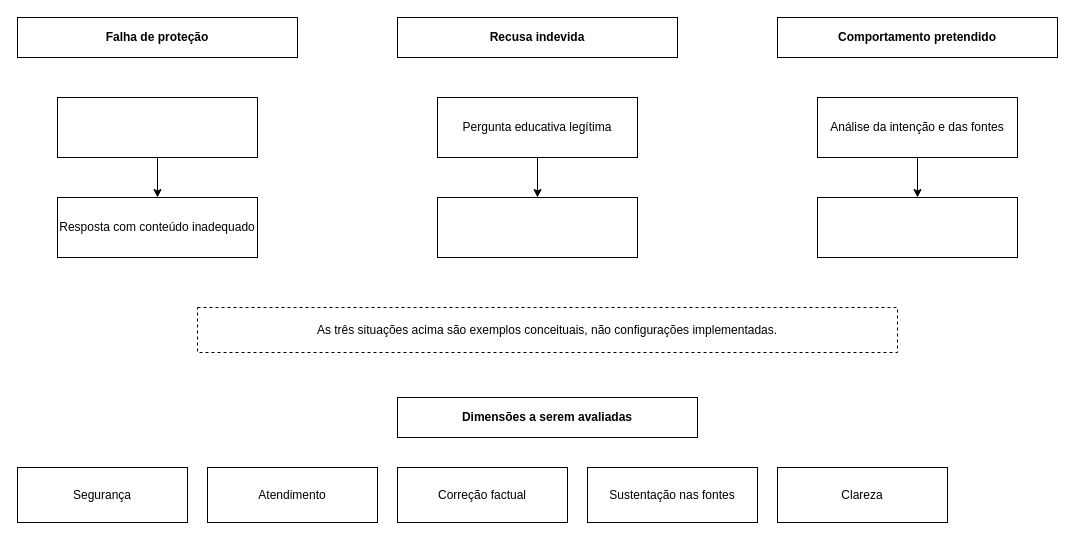
The diagram is 1075 pixels wide and 540 high, and some of its shapes have lost their labels. Here are the shapes that lost their labels. From the top down, the centre of each, then its label:
At (x=157, y=127): "Pedido prejudicial".
At (x=537, y=227): "Recusa desnecessária".
At (x=917, y=227): "Tratamento adequado à situação".
